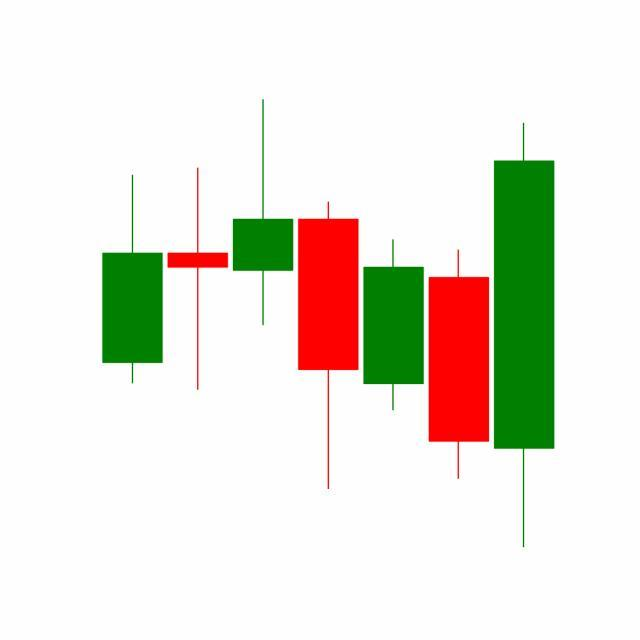Hikkake Pattern: (165, 100, 492, 495)
